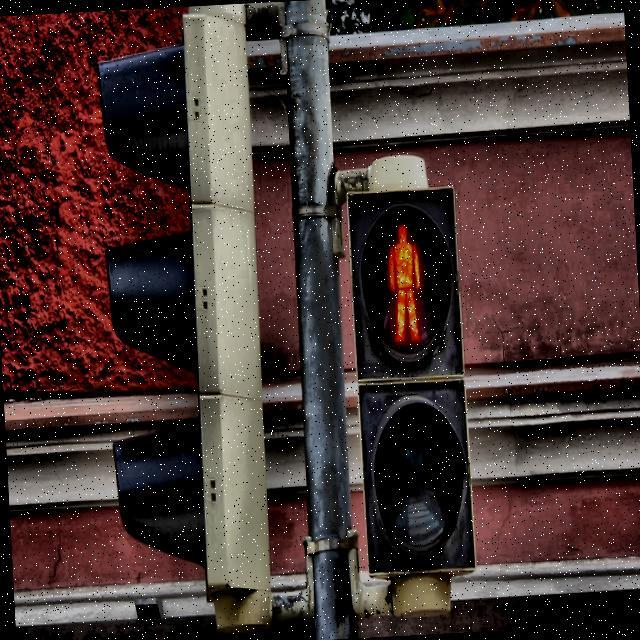red_light: (384, 220, 427, 350)
